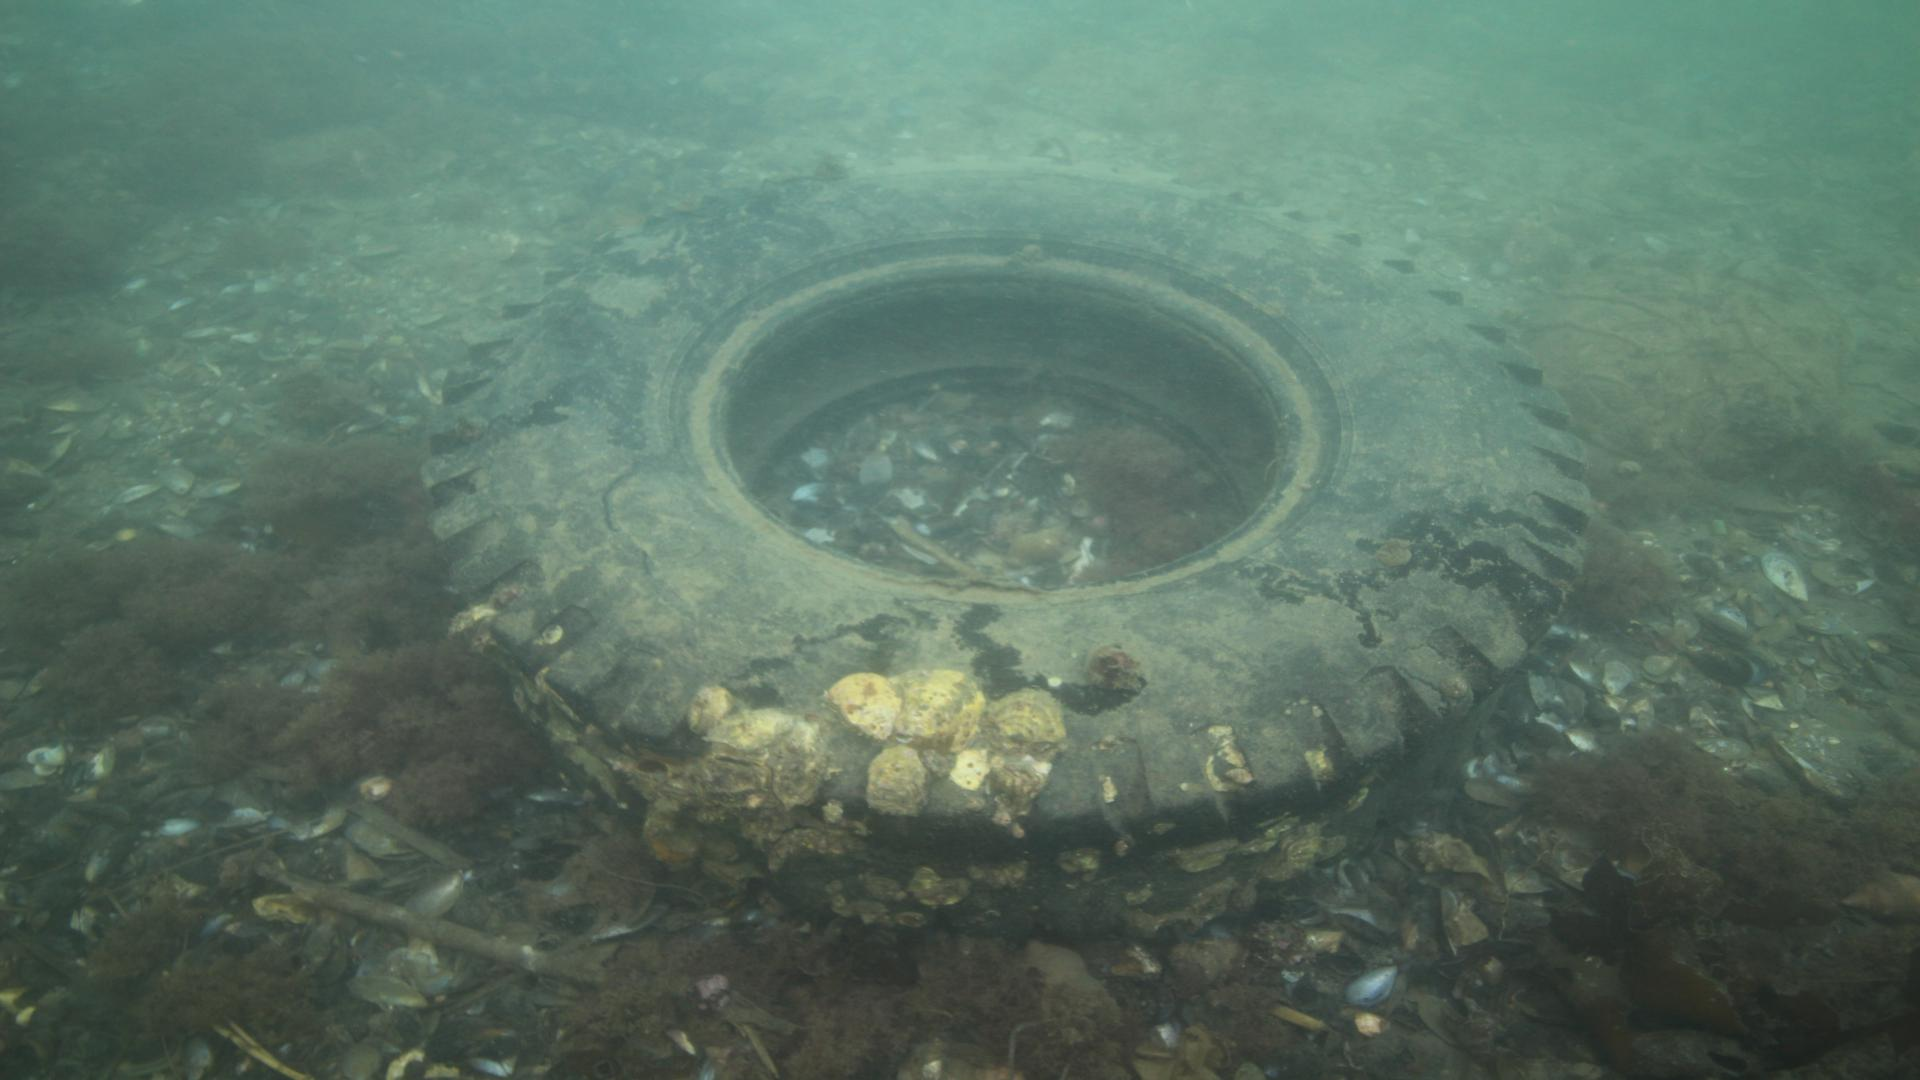tire: (418, 152, 1596, 965)
